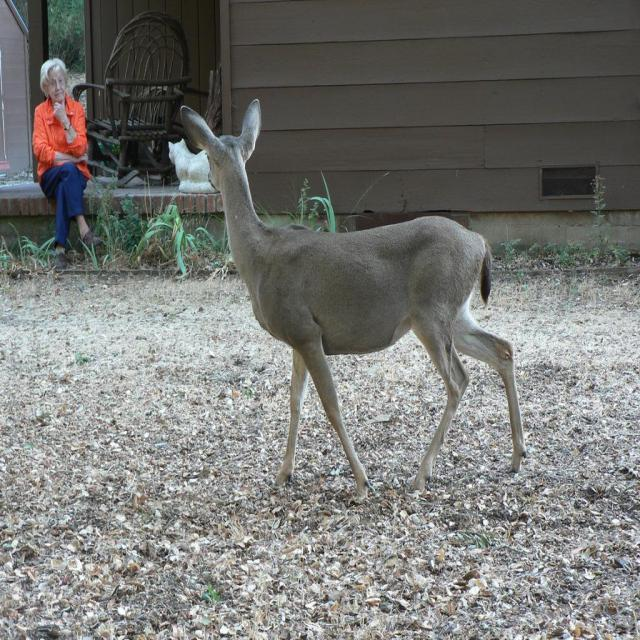Deer: (179, 98, 526, 501)
